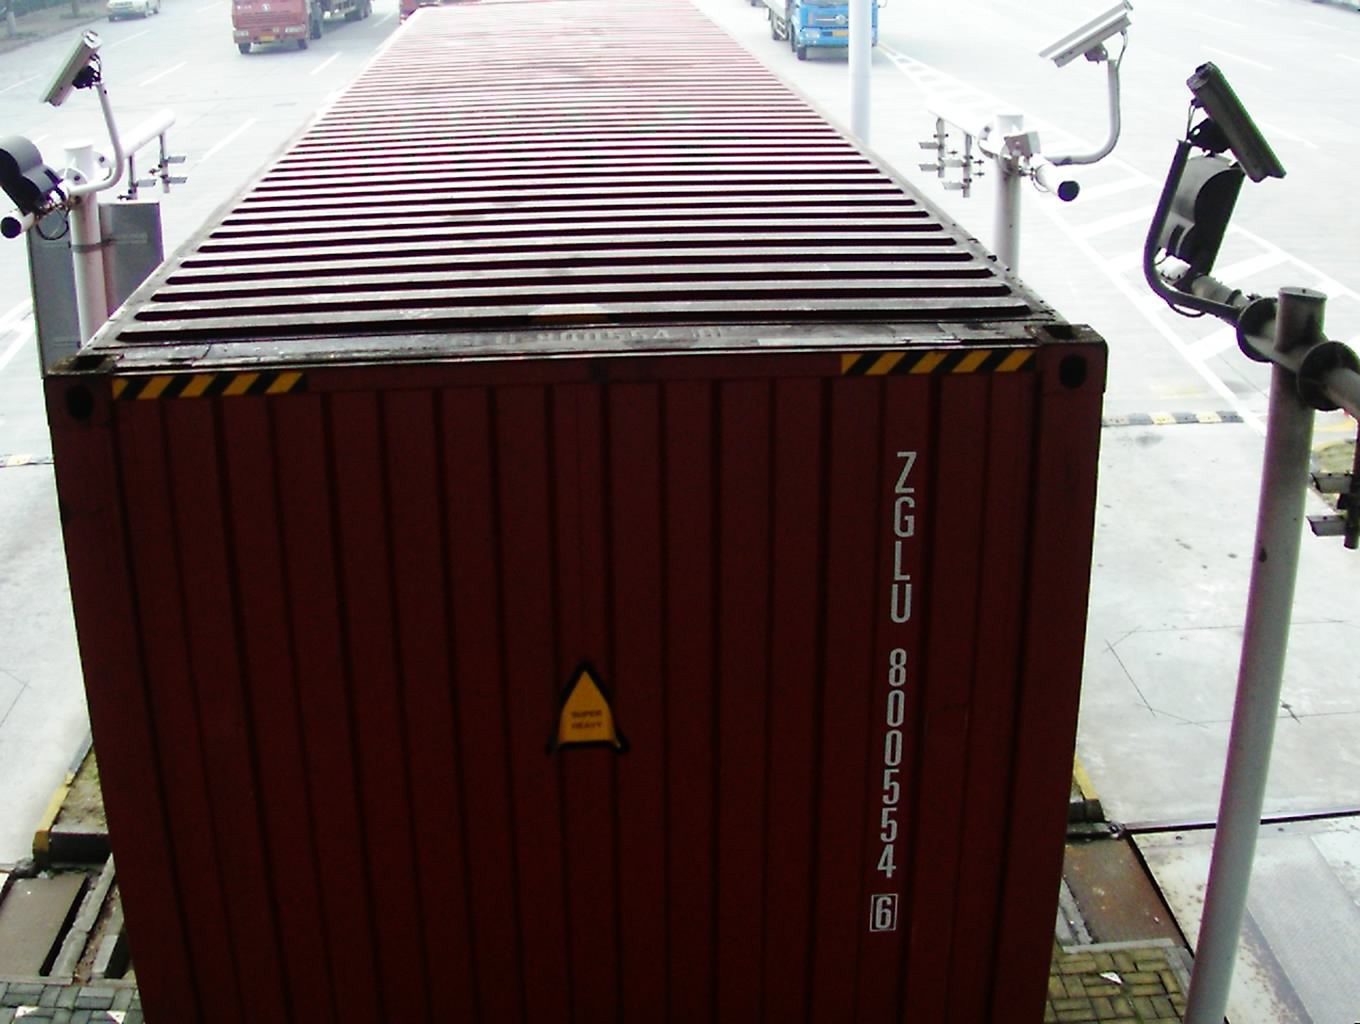words: (869, 442, 924, 936)
